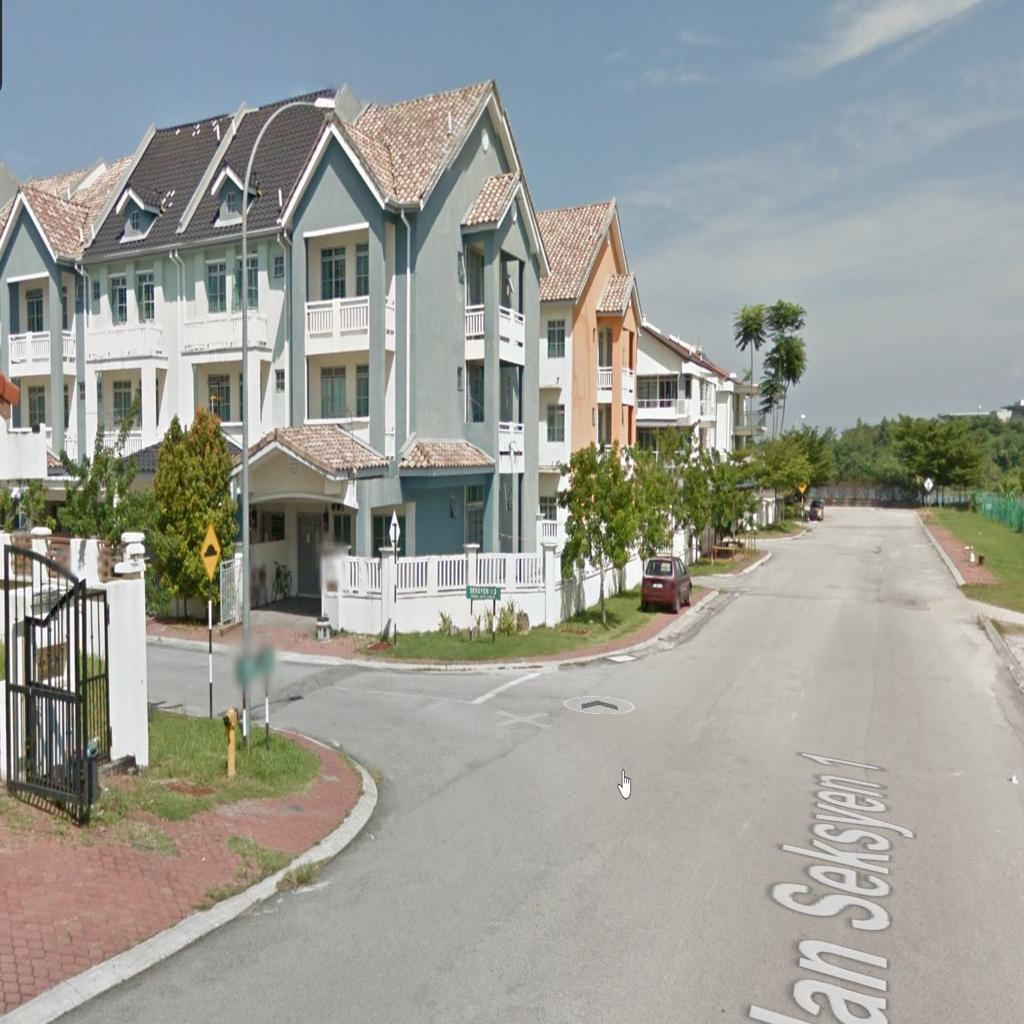Junction: (220, 635, 611, 836)
